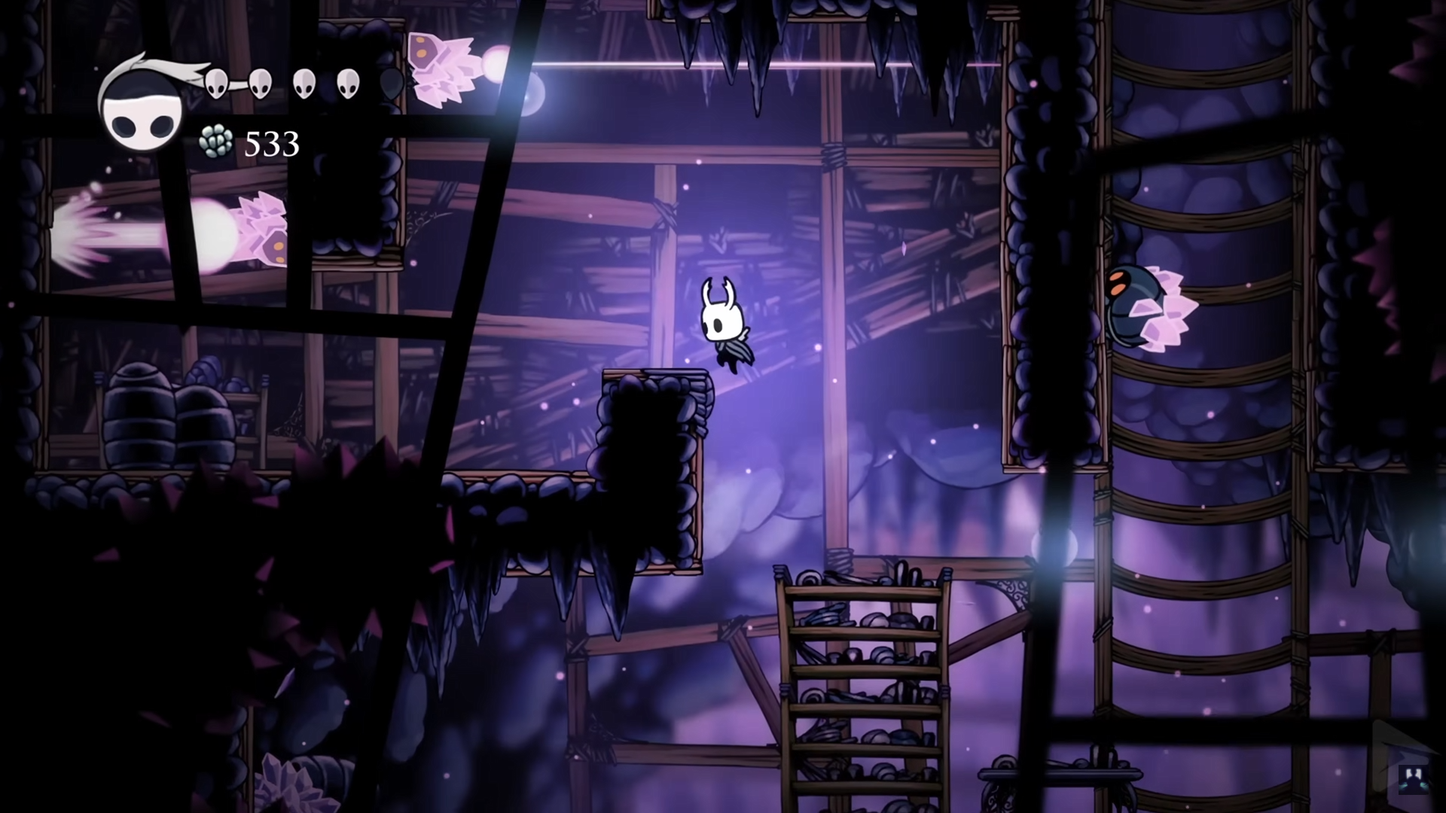HK: (694, 273, 756, 379)
